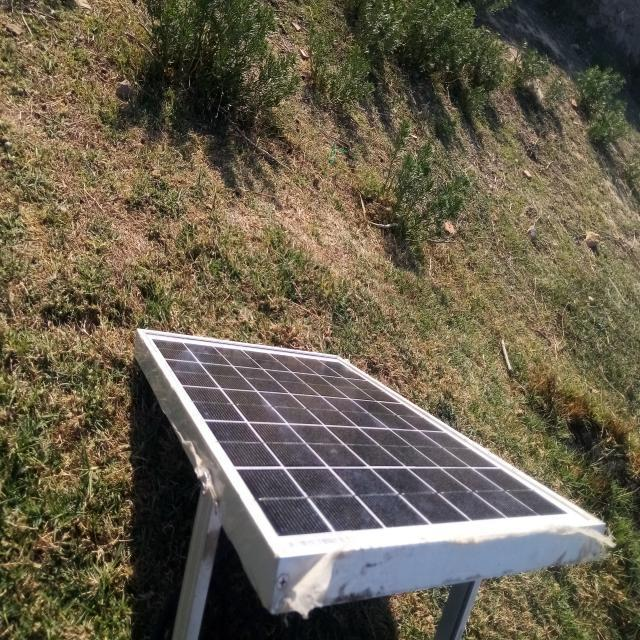Normal Solar Panel: (141, 329, 602, 562)
